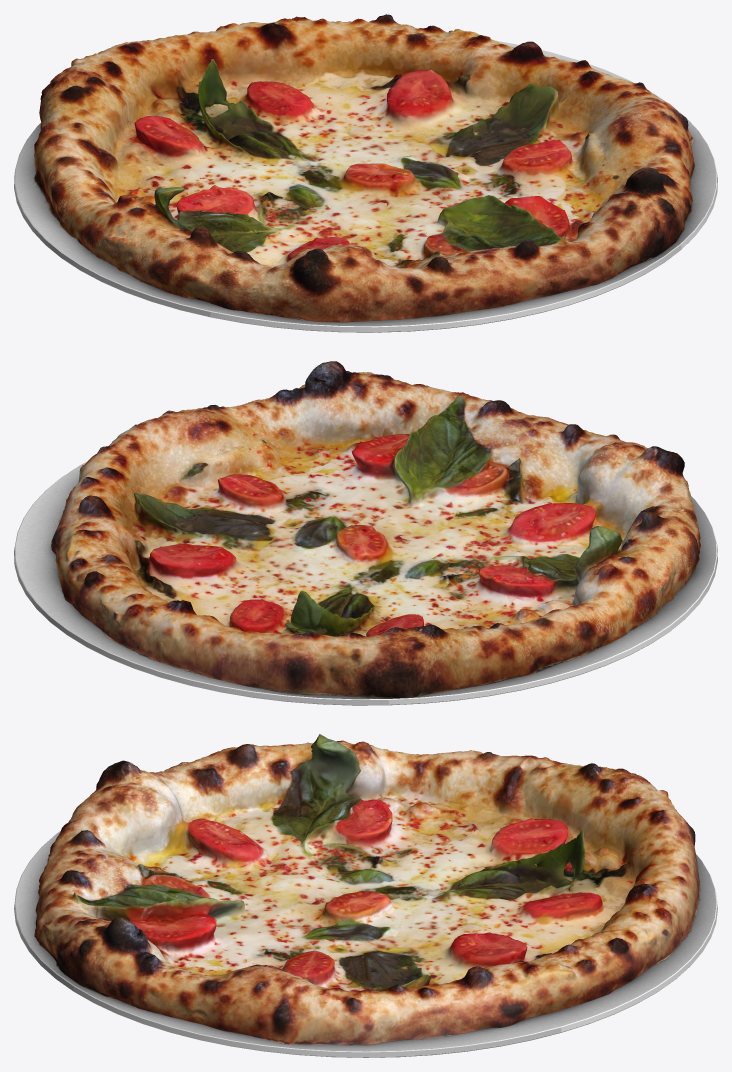
File: Plato_02.glb
3 views of the same model, one above another, from view 1: azimuth 30°, elevation 25°; view 2: azimuth 150°, elevation 25°; view 3: azimuth 270°, elevation 25° (orthographic).
Parts seen in each view (by area): view 1: PizzaBurrataOriDecimate, PizzaBurrataFlatPlate; view 2: PizzaBurrataOriDecimate, PizzaBurrataFlatPlate; view 3: PizzaBurrataOriDecimate, PizzaBurrataFlatPlate.
Part boxes in pixels (x1,y1,x2,y2): PizzaBurrataOriDecimate: [34, 14, 694, 322]; PizzaBurrataFlatPlate: [14, 40, 717, 332]; PizzaBurrataOriDecimate: [51, 361, 700, 698]; PizzaBurrataFlatPlate: [14, 461, 717, 705]; PizzaBurrataOriDecimate: [34, 734, 699, 1045]; PizzaBurrataFlatPlate: [14, 831, 717, 1057].
Size of the model in its own units: 0.26 by 0.042 by 0.26.
2 materials, 2 textured.
